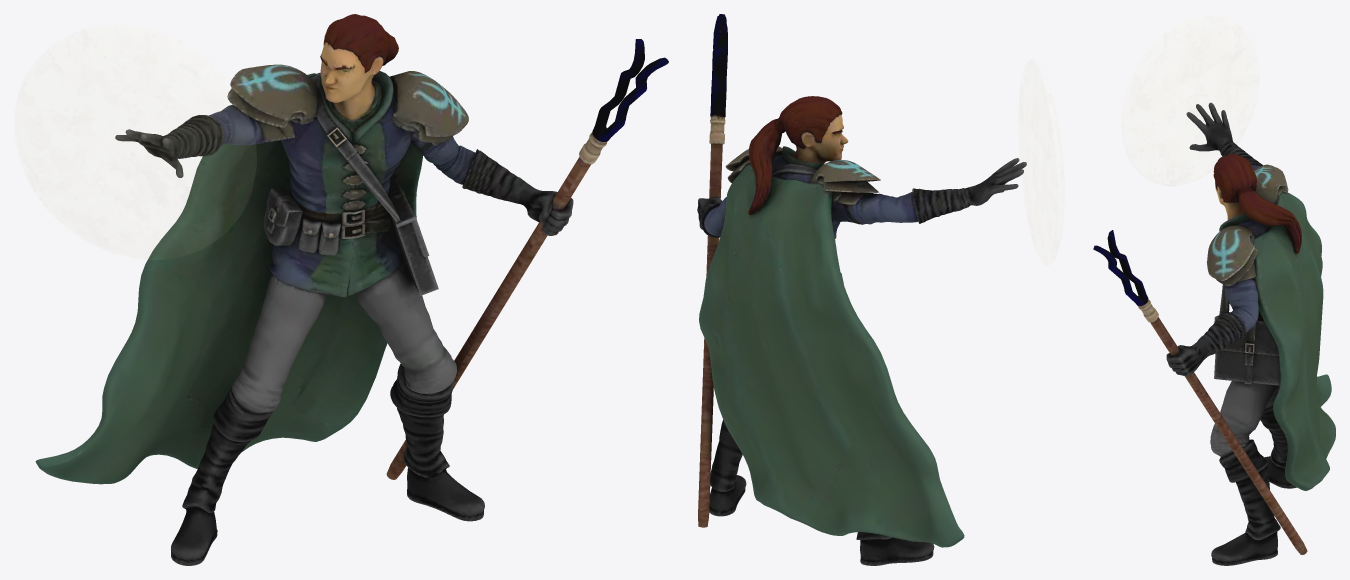
Rendered from MZ4250 - Human Male Abjuration Wizard with Shield spell_2.glb.
The picture shows the model from 3 angles, left to right: view 1: azimuth 30°, elevation 25°; view 2: azimuth 150°, elevation 25°; view 3: azimuth 270°, elevation 25°; orthographic projection. The views are drawn at different scales.
Visible parts, largest first — view 1: HMA2; view 2: HMA2; view 3: HMA2.
Boxes of the visible parts, x1=… form: HMA2: x1=35, y1=14, x2=668, y2=565; HMA2: x1=697, y1=14, x2=1026, y2=565; HMA2: x1=1093, y1=102, x2=1335, y2=565.
Size of the model in its own units: 88.72 by 93.38 by 48.95.
2 materials, 2 textured.
